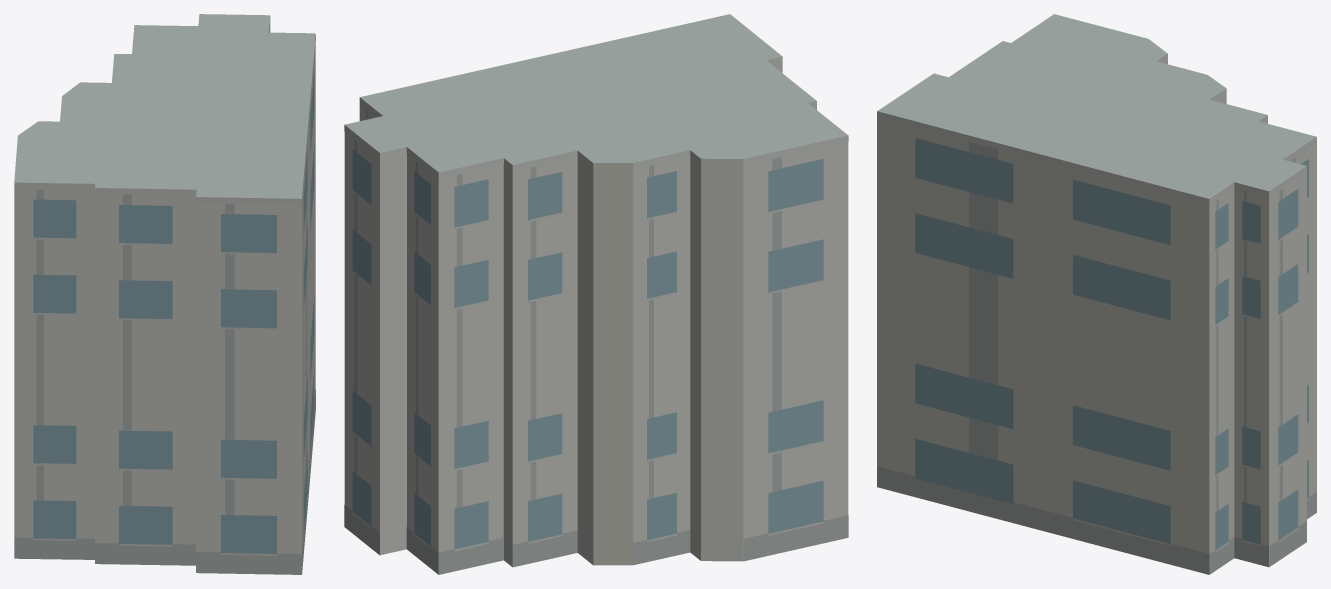
File: survey-upis-32743034.glb
3 renders of one model, left to right at view 1: azimuth 30°, elevation 25°; view 2: azimuth 150°, elevation 25°; view 3: azimuth 270°, elevation 25°, orthographic. The views are drawn at different scales.
Visible parts, largest first — view 1: survey-upis-32743034.tmp; view 2: survey-upis-32743034.tmp; view 3: survey-upis-32743034.tmp.
Boxes of the visible parts, x1,y1,x2,y2 form: survey-upis-32743034.tmp: [14, 14, 315, 574]; survey-upis-32743034.tmp: [344, 14, 848, 574]; survey-upis-32743034.tmp: [877, 14, 1316, 574].
Size of the model in its own units: 15.31 by 14.5 by 15.38.
